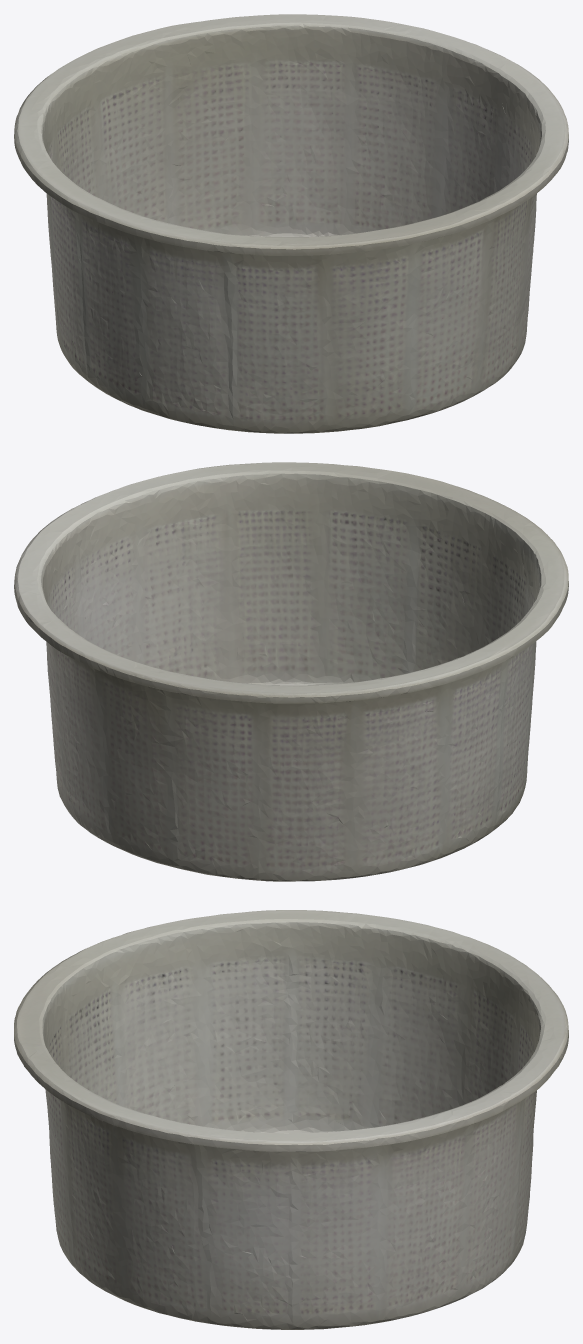
3 views of the same model, one above another, from view 1: azimuth 30°, elevation 25°; view 2: azimuth 150°, elevation 25°; view 3: azimuth 270°, elevation 25° (orthographic).
Visible parts, largest first — view 1: world; view 2: world; view 3: world.
Boxes of the visible parts, left/top/right/bottom form: world: left=14, top=14, right=568, bottom=433; world: left=14, top=462, right=568, bottom=881; world: left=14, top=910, right=568, bottom=1329.
Bounding box in the file's own units: 1 × 0.4144 × 0.9999.
1 material, 1 textured.
